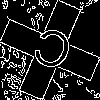C: (25, 25, 76, 81)
